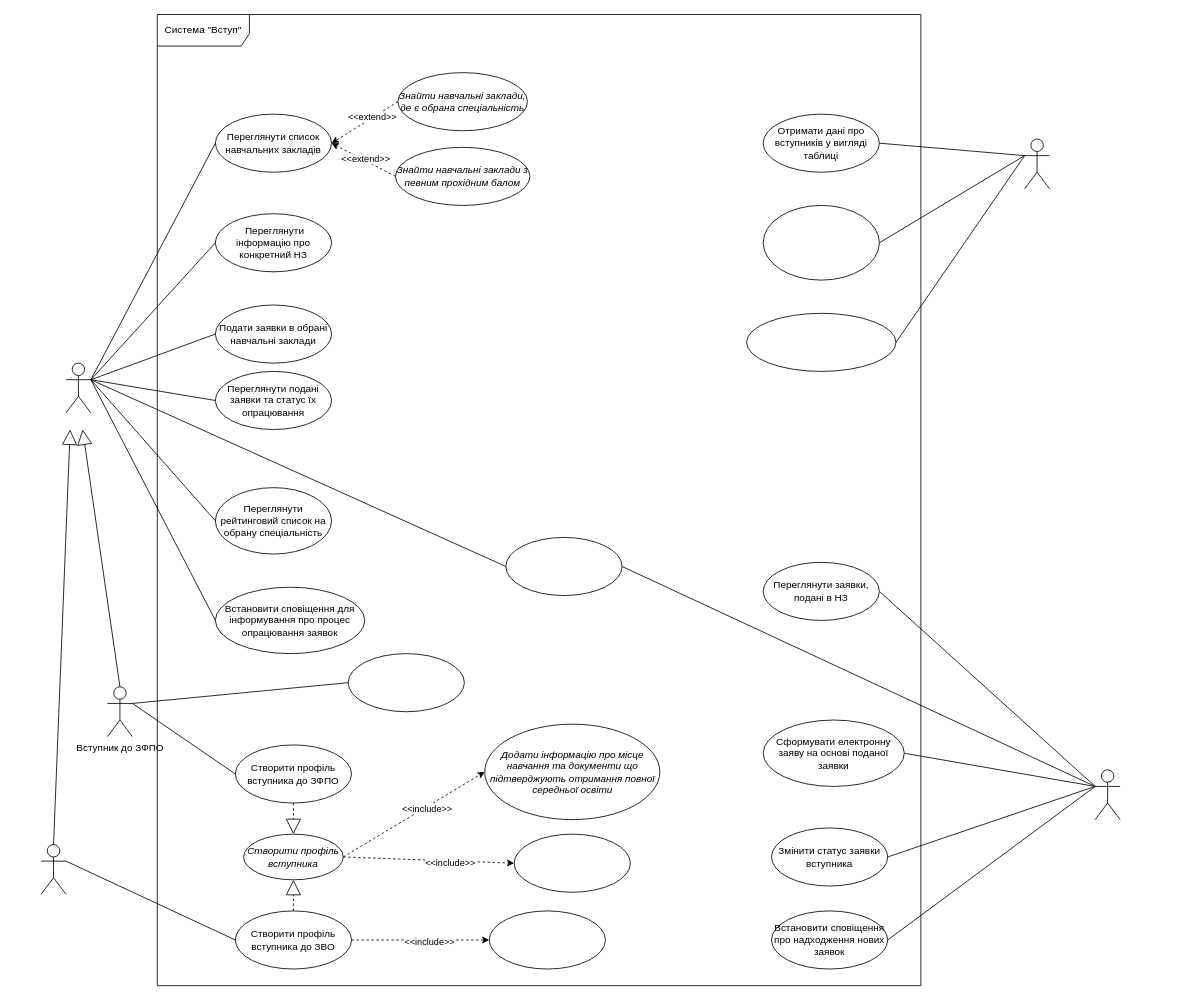
The diagram is 1190 pixels wide and 1000 high, and some of its shapes have lost their labels. Each missing label, with the centre of its shape:
Анулювання заявки при наявності факту порушення правил вступу: the point at 821,341
Вступник: the point at 78,387
Вступник до ЗВО: the point at 53,869
Додати особисту та контактну інформацію: the point at 571,862
Додати інформацію про сертифікат ЗНО: the point at 546,939
Консультування стосовно вступу: the point at 563,566
Отримати статистичні дані щодо поданих заявок: the point at 820,242
Переглянути інформацію про вступні іспити в ЗФПО: the point at 405,682
Працівник УЦОЯО: the point at 1037,163
Уповноважений працівник НЗ: the point at 1107,794
